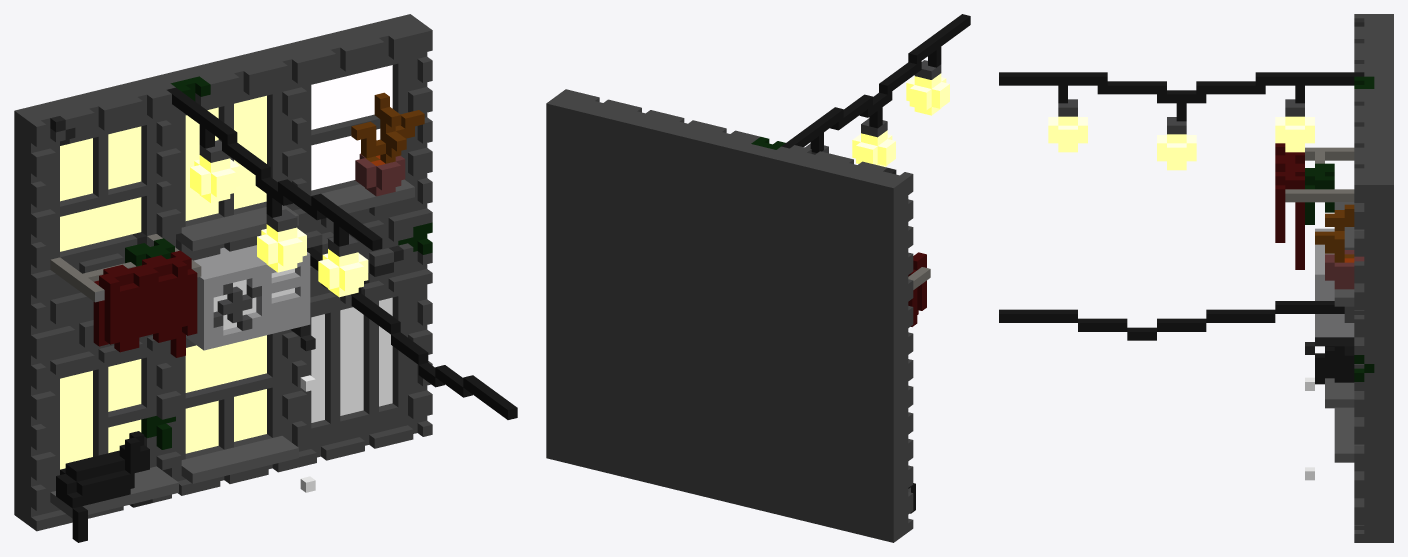
Rendered from district.glb.
3 views of the same model, side by side, from view 1: azimuth 30°, elevation 25°; view 2: azimuth 150°, elevation 25°; view 3: azimuth 270°, elevation 25° (orthographic). The views are drawn at different scales.
Parts seen in each view (by area): view 1: Peaceful District; view 2: Peaceful District; view 3: Peaceful District.
Boxes of the visible parts, left/top/right/bottom form: Peaceful District: left=14, top=14, right=517, bottom=542; Peaceful District: left=546, top=14, right=970, bottom=542; Peaceful District: left=999, top=14, right=1393, bottom=542.
Size of the model in its own units: 4.1 by 4 by 4.
9 materials, 1 textured.
